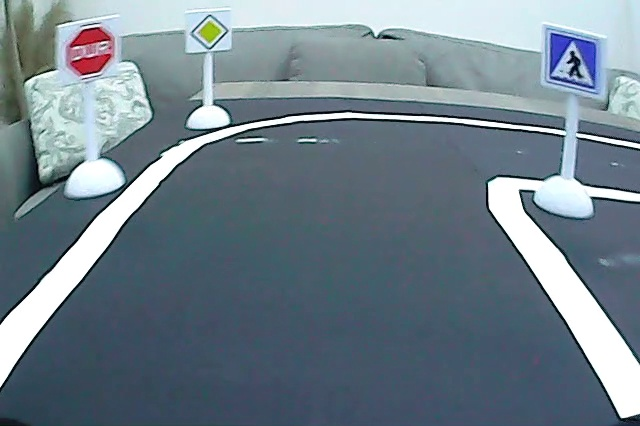pedestrian crossing: (545, 26, 601, 94)
stop sign: (61, 20, 119, 82)
